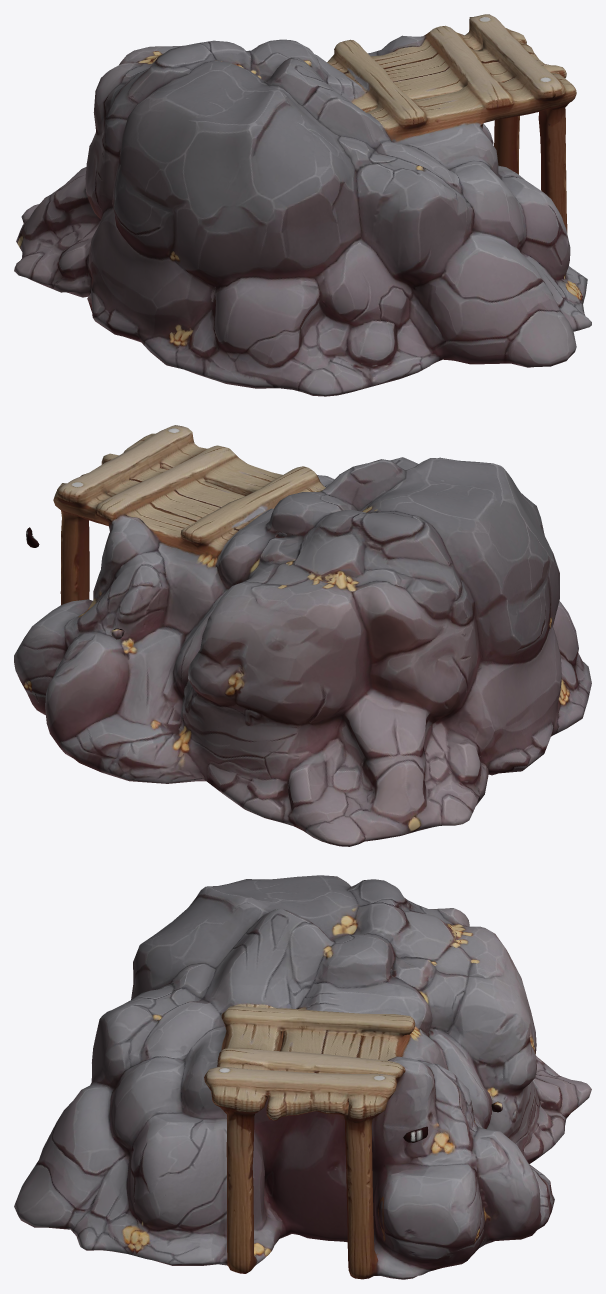
File: mine-a.fbx
The picture shows the model from 3 angles, top to bottom: view 1: azimuth 30°, elevation 25°; view 2: azimuth 150°, elevation 25°; view 3: azimuth 270°, elevation 25°; orthographic projection. The views are drawn at different scales.
Visible parts, largest first — view 1: tripo_node_0ffaf93a; view 2: tripo_node_0ffaf93a; view 3: tripo_node_0ffaf93a.
Part boxes in pixels (left/top/right/bottom): tripo_node_0ffaf93a: left=14, top=14, right=591, bottom=396; tripo_node_0ffaf93a: left=14, top=425, right=591, bottom=846; tripo_node_0ffaf93a: left=14, top=875, right=591, bottom=1279.
Size of the model in its own units: 0.9057 by 0.4577 by 0.988.
Materials: 1 (1 with a texture image).
